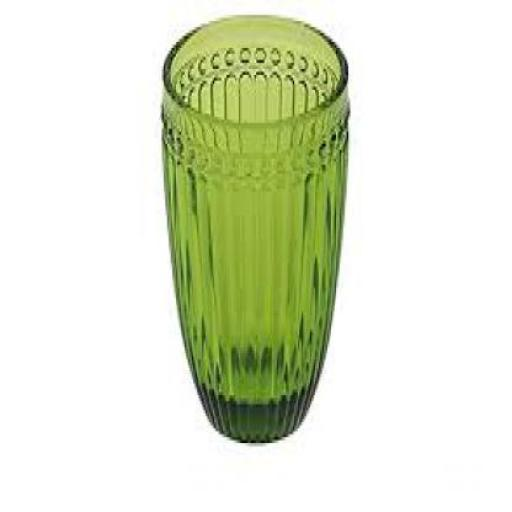glass: (160, 12, 348, 440)
